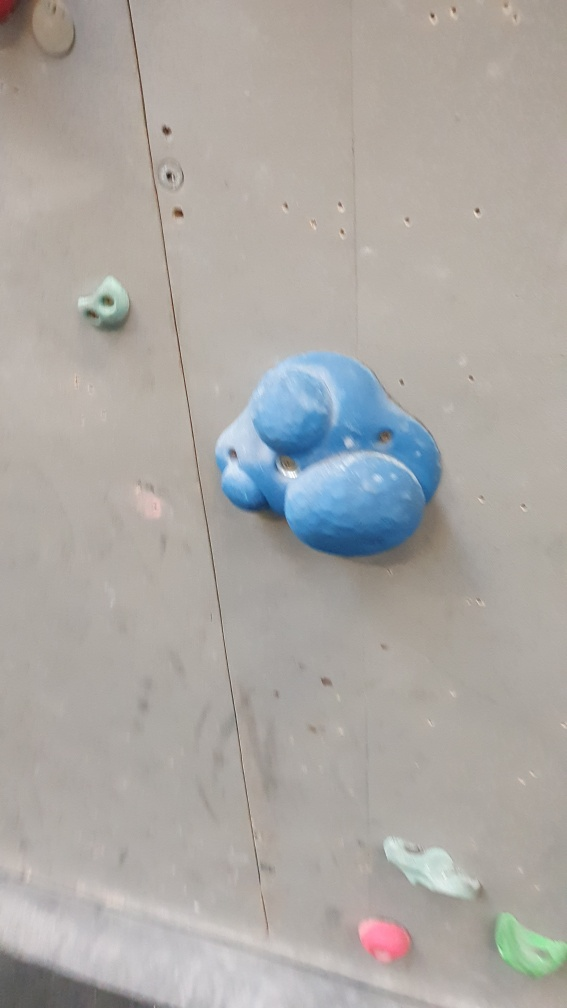Sloper: (213, 348, 444, 561)
